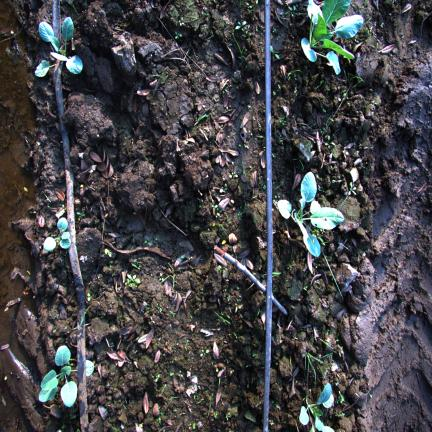crop: (277, 172, 344, 257), (302, 0, 363, 74), (39, 17, 83, 74), (39, 346, 77, 407), (299, 383, 334, 432), (43, 218, 71, 251), (35, 62, 49, 76)
